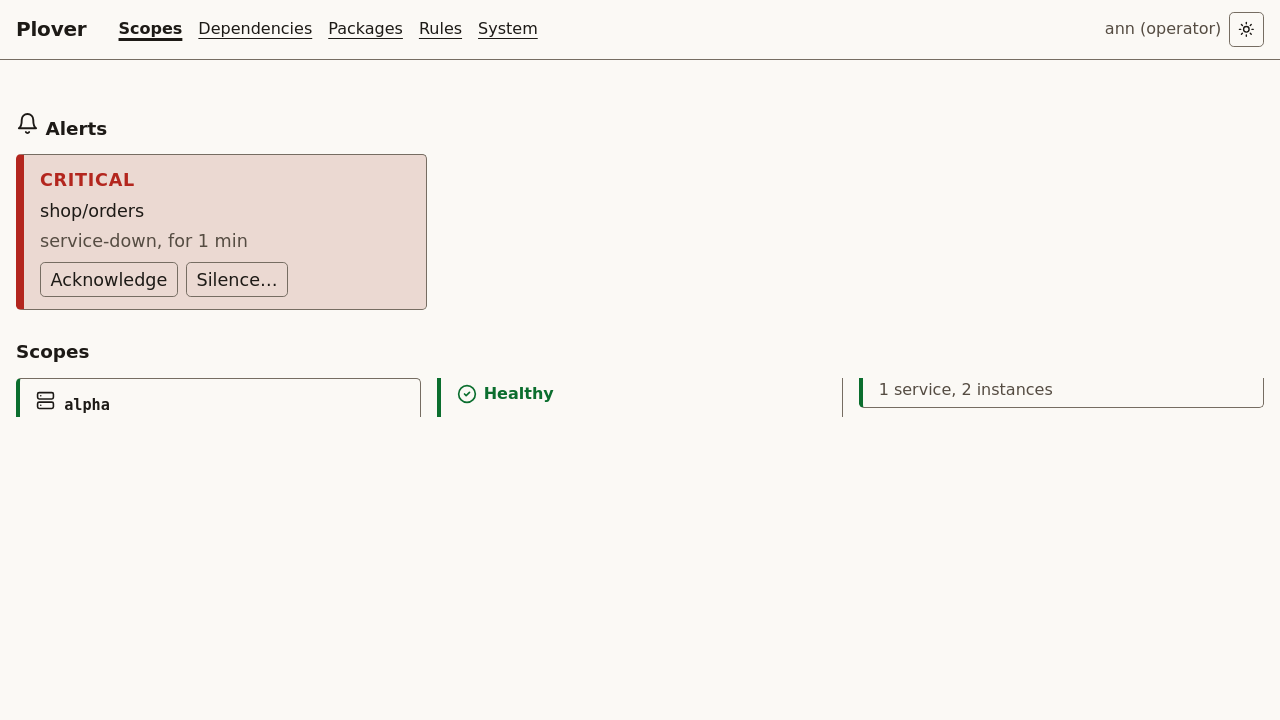
Test case: changing alerts › says why when the controller refuses, and keeps the form
The image size is (1280, 720).
Click the button "Silence…".
click(237, 280)  # box [186,262,288,297]
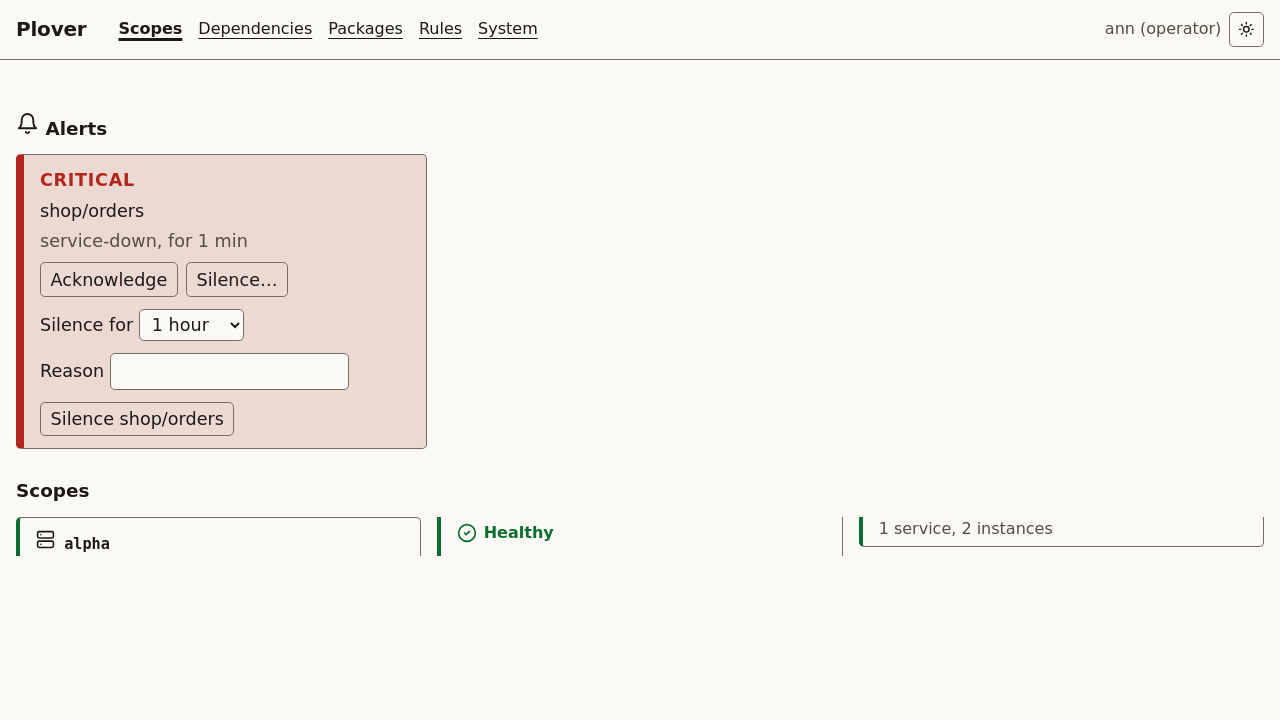
Submit the form with class "silence-form", box [40,309,349,436]
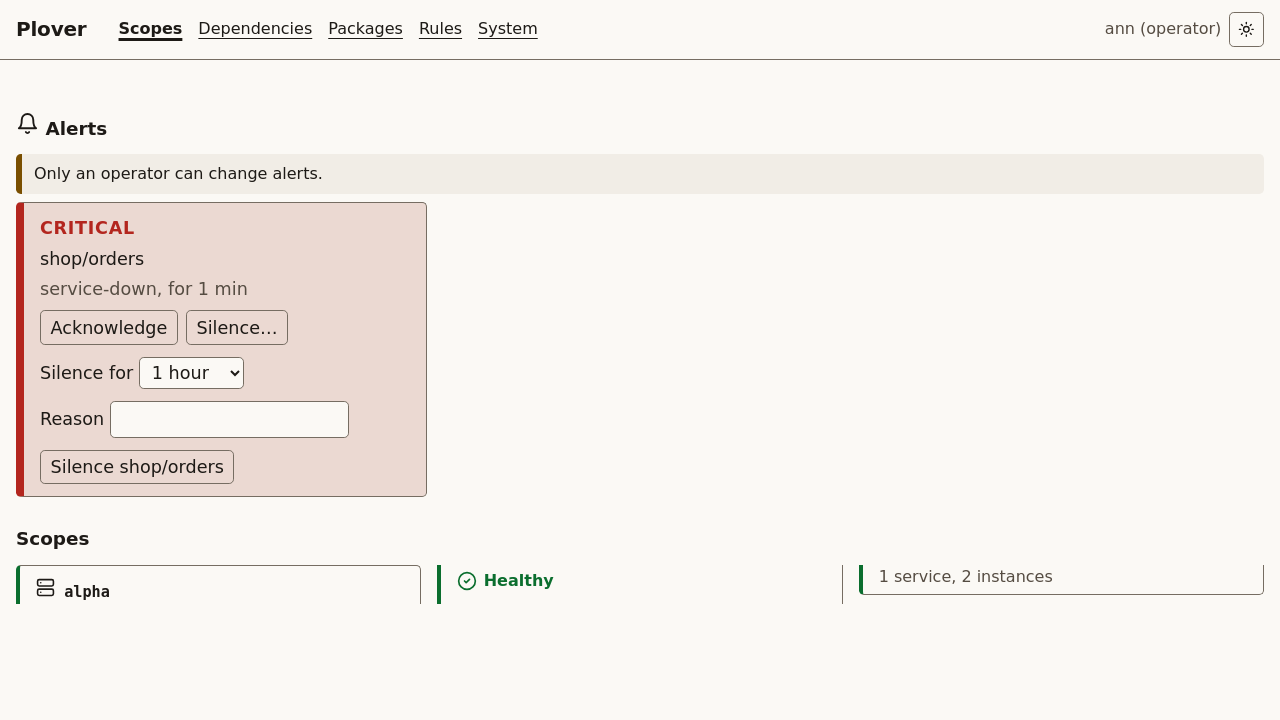
Now the form with class "silence-form" is shown, box [40,357,349,484]
Now the message "Only an operator can change alerts." is shown, box [16,154,1264,194]
